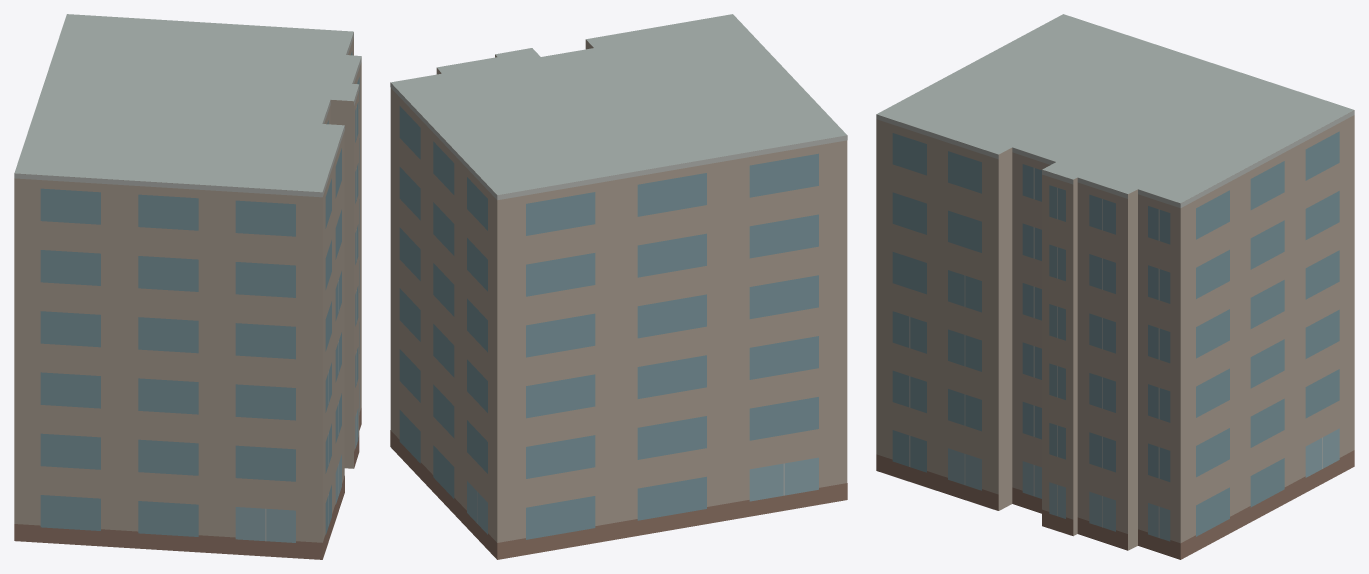
The model's file is survey-upis-32851805.glb.
3 renders of one model, left to right at view 1: azimuth 30°, elevation 25°; view 2: azimuth 150°, elevation 25°; view 3: azimuth 270°, elevation 25°, orthographic. The views are drawn at different scales.
Parts seen in each view (by area): view 1: survey-upis-32851805.tmp; view 2: survey-upis-32851805.tmp; view 3: survey-upis-32851805.tmp.
Part boxes in pixels (x1,y1,x2,y2): survey-upis-32851805.tmp: (14, 14, 361, 559); survey-upis-32851805.tmp: (390, 14, 847, 559); survey-upis-32851805.tmp: (876, 14, 1354, 559).
Size of the model in its own units: 20.29 by 17.8 by 21.65.
